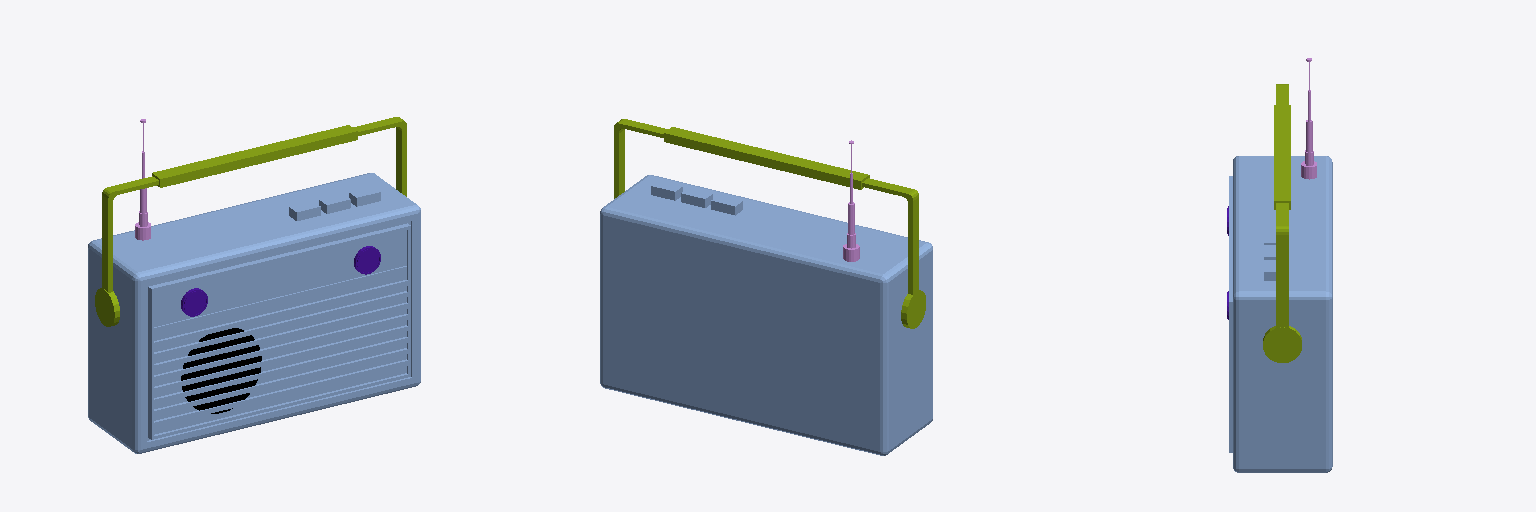
Rendered from radio_001.obj.
The picture shows the model from 3 angles: view 1: azimuth 30°, elevation 25°; view 2: azimuth 150°, elevation 25°; view 3: azimuth 270°, elevation 25°; orthographic projection.
Parts seen in each view (by area): view 1: box, handle, Cylinder003, Cylinder002, Cylinder001; view 2: box, handle, Cylinder001; view 3: box, handle, Cylinder001.
Part boxes in pixels (x1,y1,x2,y2): box: (88, 173, 420, 453); handle: (95, 117, 406, 326); Cylinder003: (181, 328, 261, 413); Cylinder002: (181, 246, 380, 316); Cylinder001: (135, 119, 150, 240); box: (600, 175, 932, 455); handle: (614, 119, 925, 328); Cylinder001: (843, 140, 859, 261); box: (1229, 156, 1332, 472); handle: (1263, 84, 1301, 362); Cylinder001: (1301, 58, 1316, 179).
Size of the model in its own units: 52 by 49.35 by 15.8.